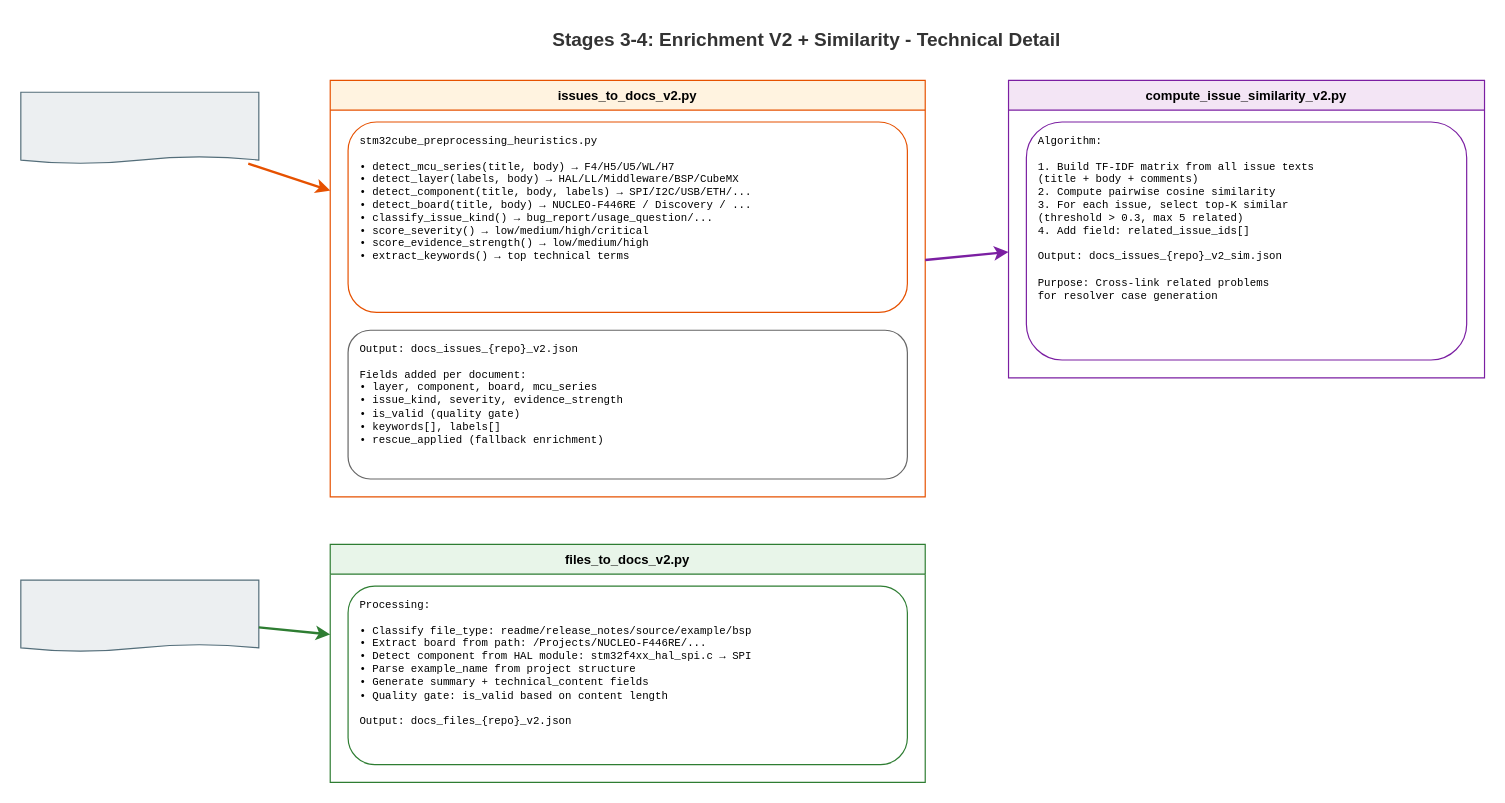
Some shapes in this 1505 by 803 pixel diagram are drawn without their labels. Here are the shapes that lost their labels. From the top down, the centre of each, then its label:
pixel 139 127: clean_issues_{repo}.json (from Stage 2)
pixel 139 615: clean_files_{repo}.json (from Stage 2)
